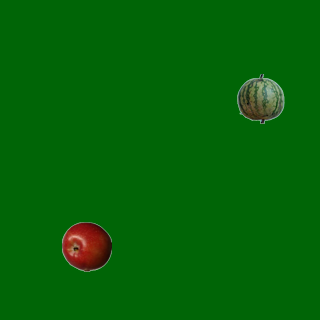Apple Braeburn: (61, 221, 111, 271)
Watermelon: (235, 73, 285, 123)
